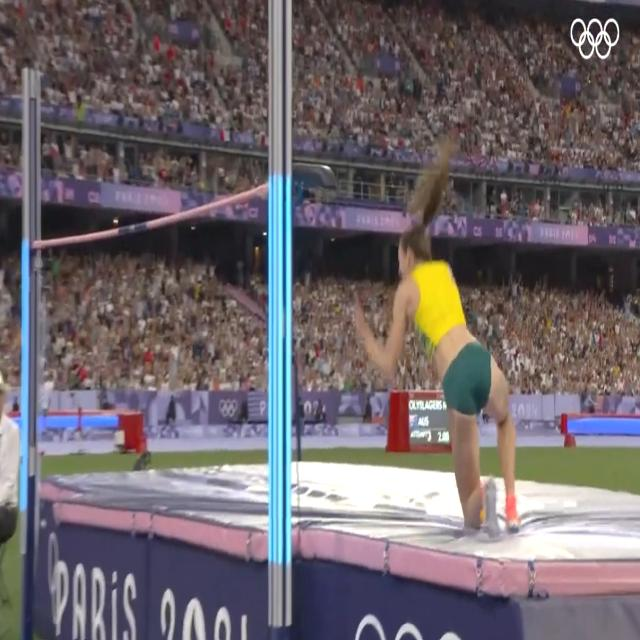land: (387, 235, 523, 536)
